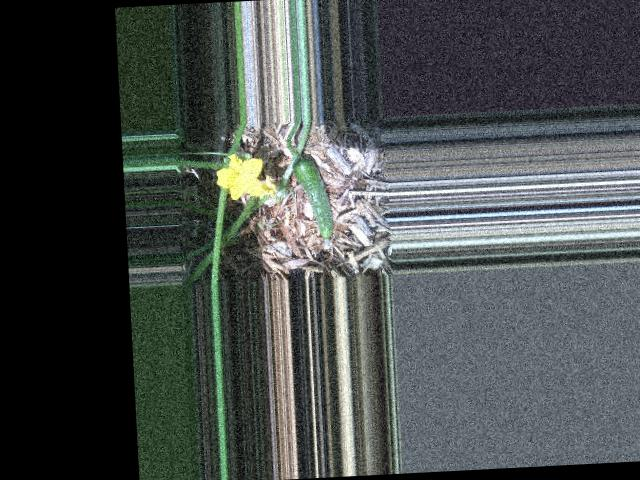cucumber: (291, 154, 335, 248)
